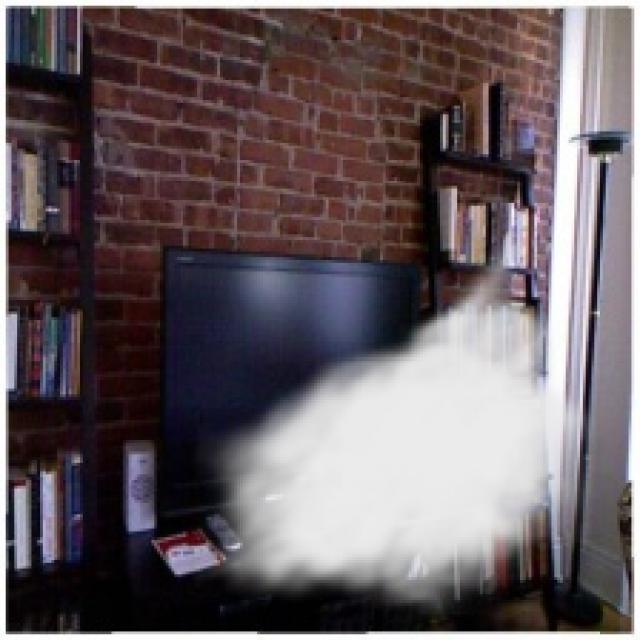Smoke: (191, 225, 603, 618)
